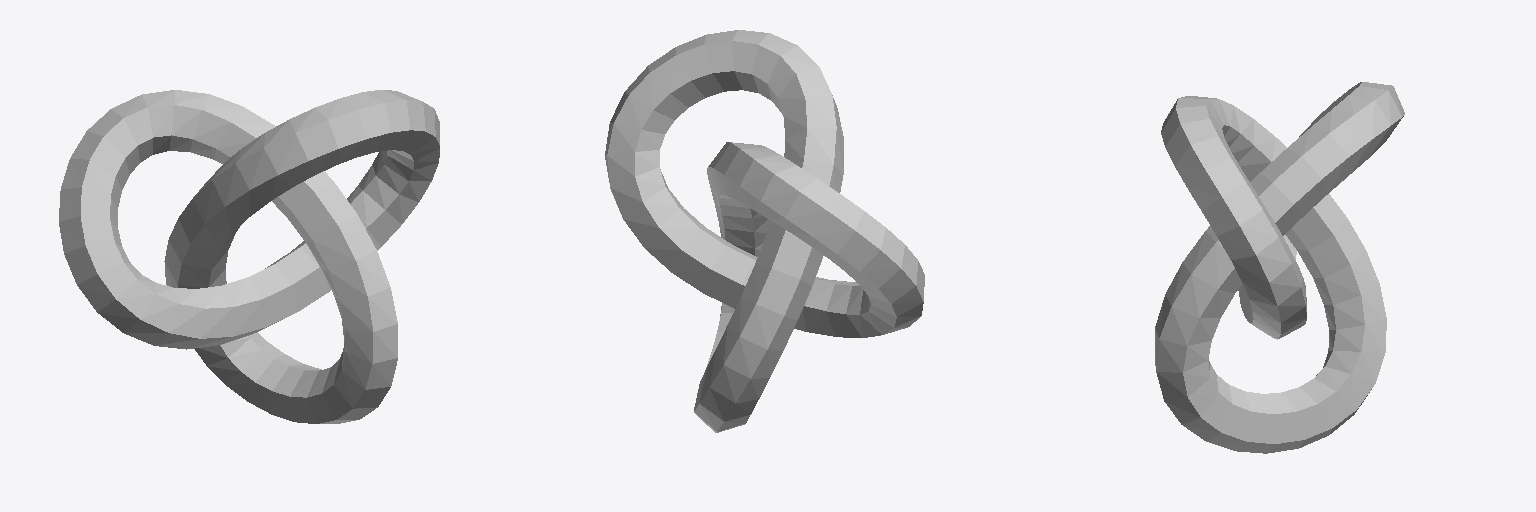
Rendered from exit.obj.
The picture shows the model from 3 angles: view 1: azimuth 30°, elevation 25°; view 2: azimuth 150°, elevation 25°; view 3: azimuth 270°, elevation 25°; orthographic projection.
Parts seen in each view (by area): view 1: Torus_Knot; view 2: Torus_Knot; view 3: Torus_Knot.
Boxes of the visible parts, <box> form: Torus_Knot: <box>59,90,439,423</box>; Torus_Knot: <box>605,30,924,432</box>; Torus_Knot: <box>1155,82,1404,453</box>.
Bounding box in the file's own units: 3.52 × 3.43 × 2.25.